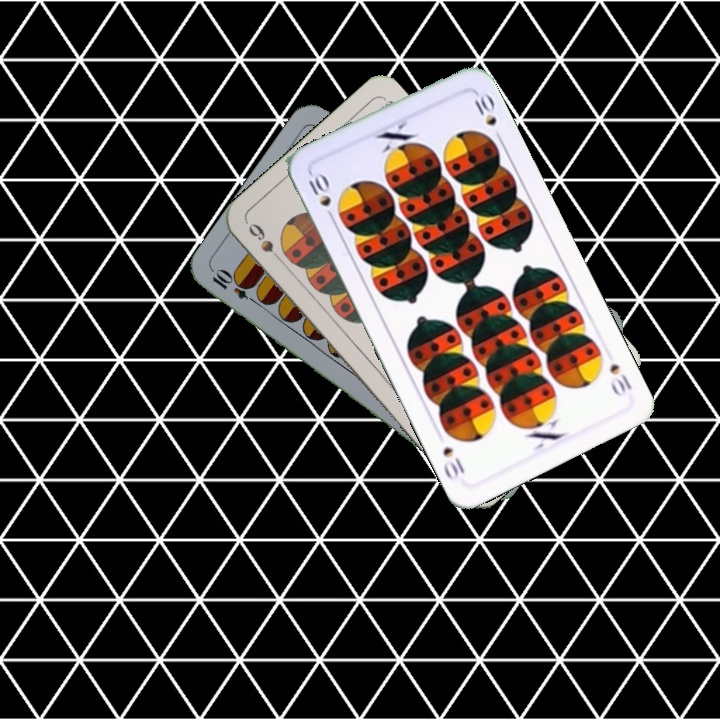E10: (208, 266, 263, 308)
S10: (304, 169, 338, 225), (605, 359, 635, 394)
S9: (244, 219, 288, 268)
